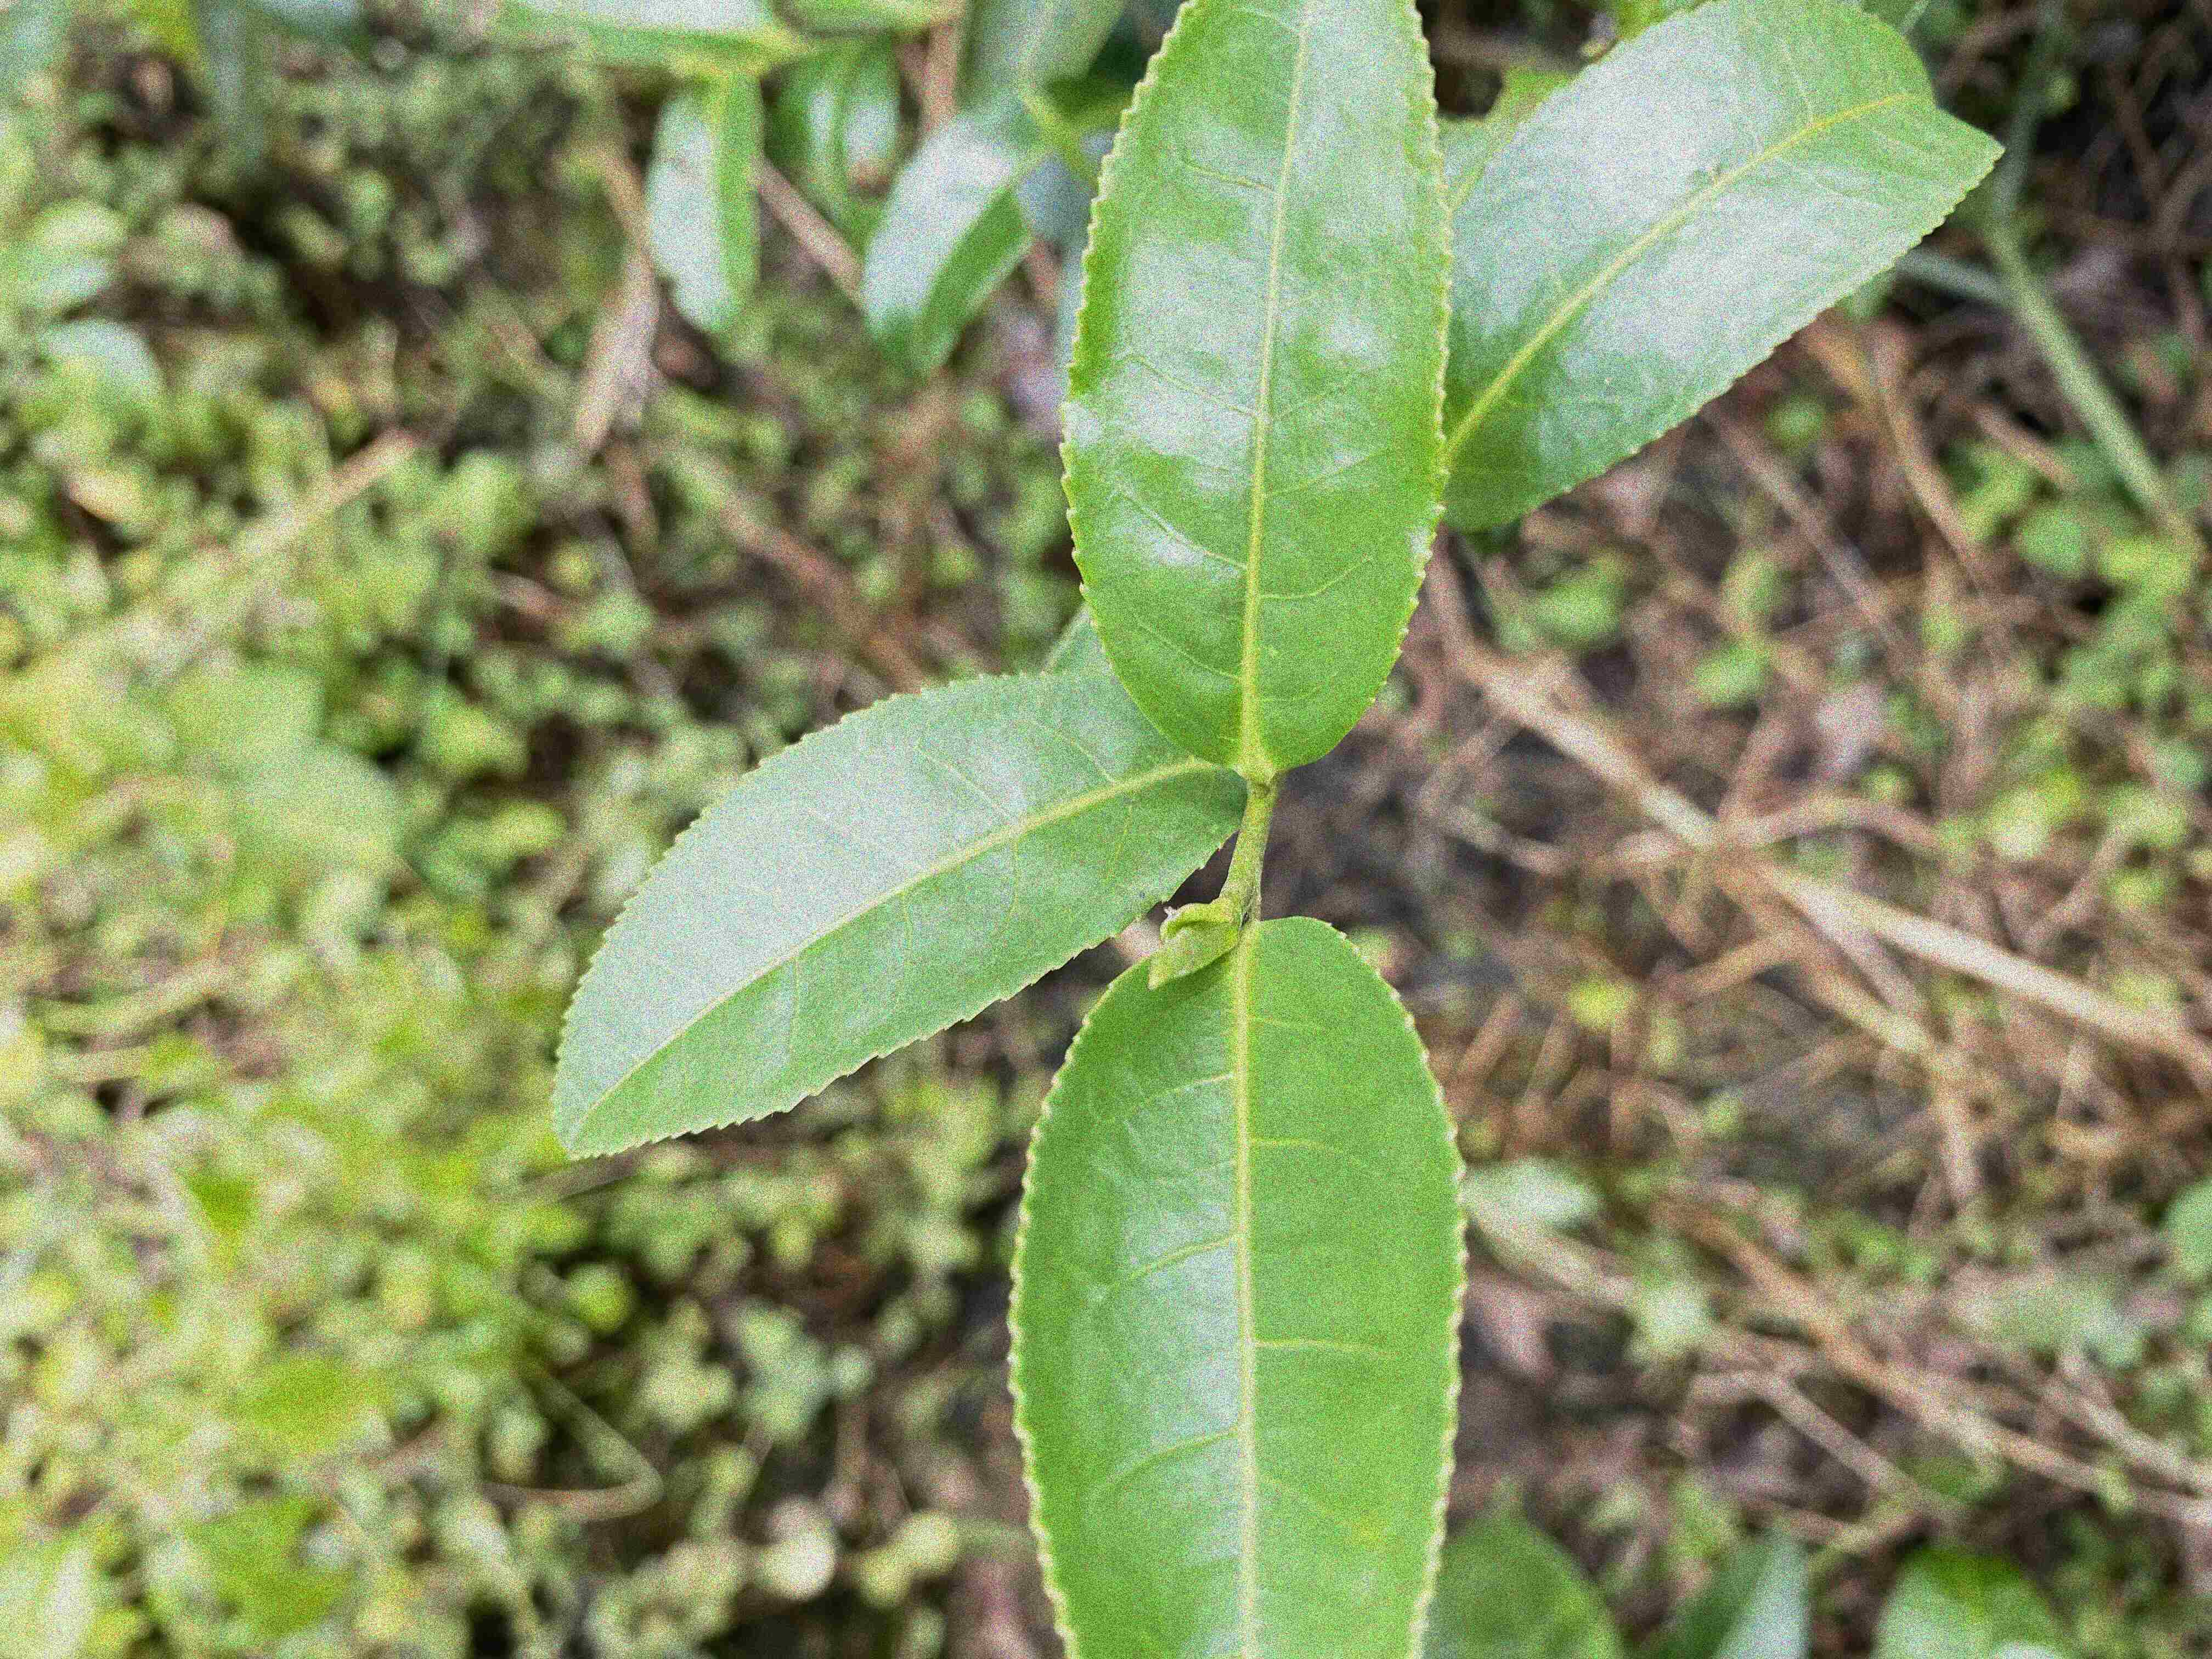healthy: (1005, 911, 1470, 1657), (549, 669, 1240, 1162), (1052, 2, 1460, 775), (1451, 0, 2006, 535)
